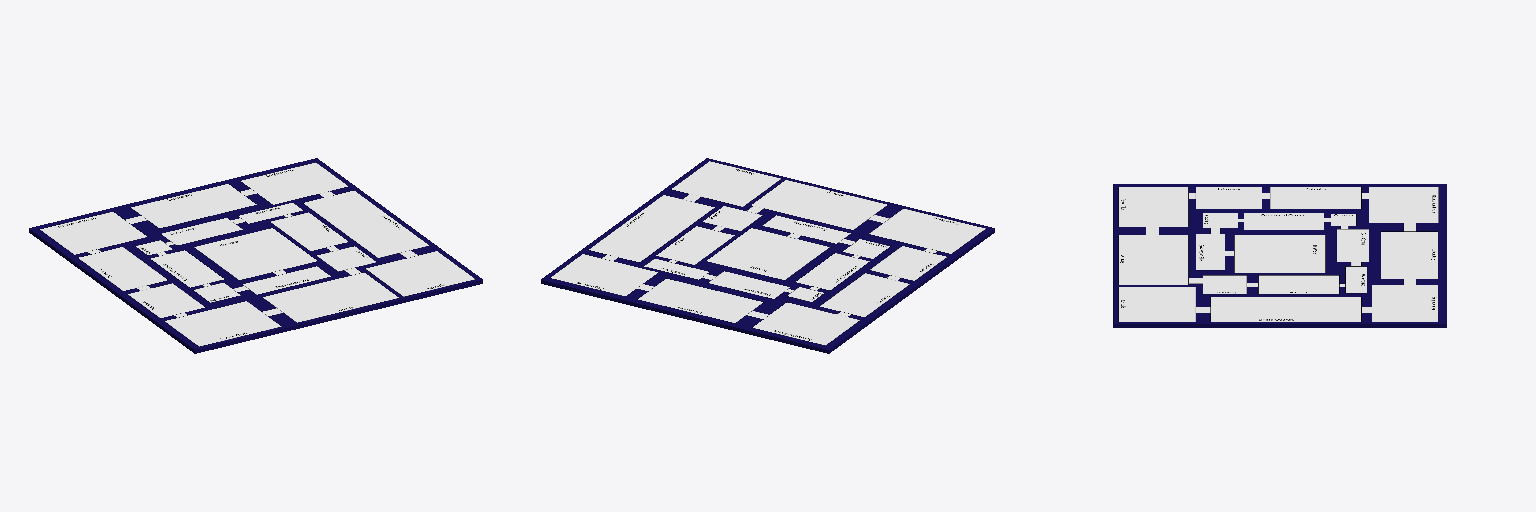
3 renders of one model, left to right at view 1: azimuth 30°, elevation 25°; view 2: azimuth 150°, elevation 25°; view 3: azimuth 270°, elevation 25°, orthographic.
Parts seen in each view (by area): view 1: Board_Cube.001; view 2: Board_Cube.001; view 3: Board_Cube.001.
Boxes of the visible parts, x1=… form: Board_Cube.001: x1=29, y1=158, x2=482, y2=353; Board_Cube.001: x1=541, y1=158, x2=994, y2=353; Board_Cube.001: x1=1113, y1=184, x2=1446, y2=327.
Size of the model in its own units: 40 by 0.5 by 40.
1 materials, 1 textured.